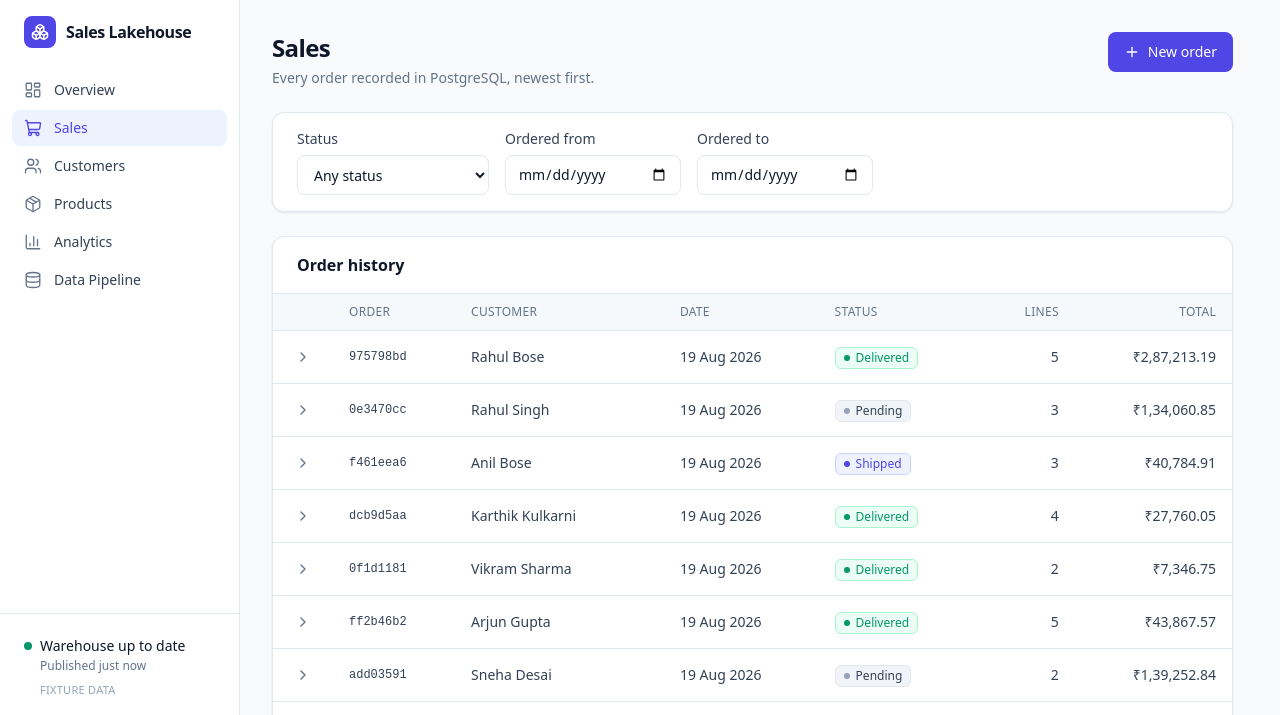
order history › expands a row to reveal its line items
Step 1. Click the button named "show line items" next to "975798bd" → (303, 357), box [289,343,317,371]
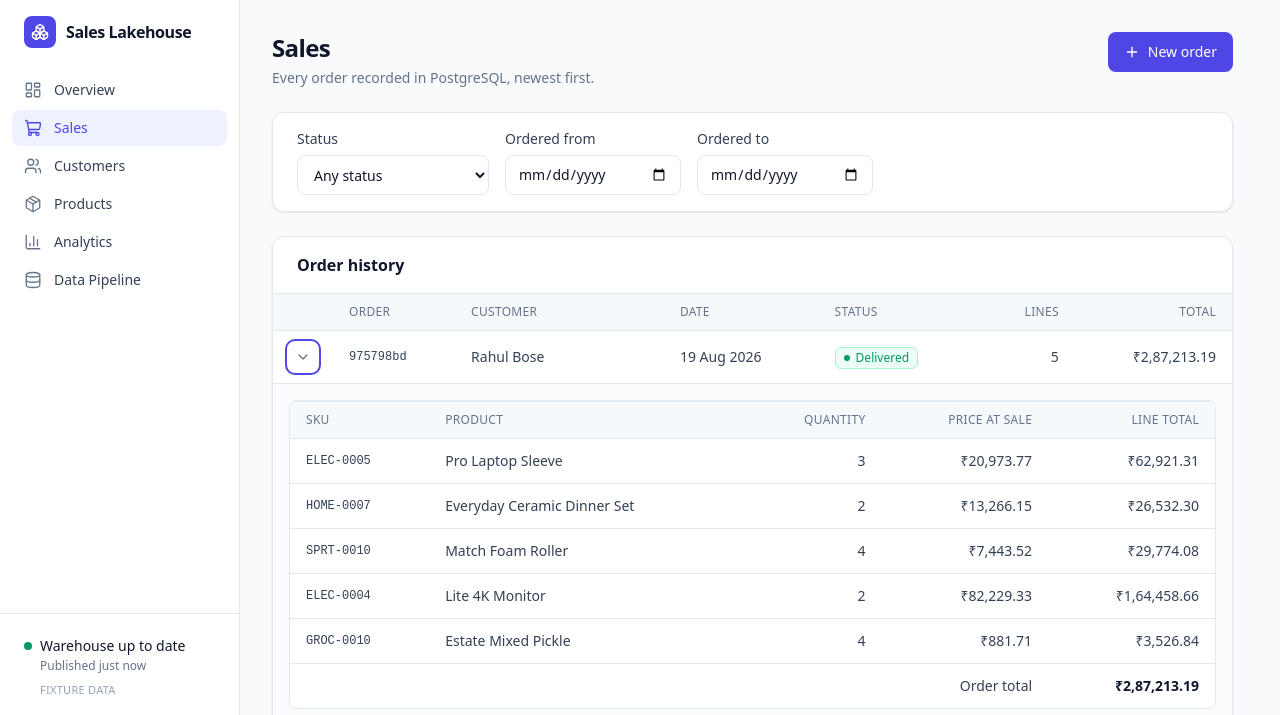
Expected: the button named "show line items" is expanded, [289,343,317,371]
Expected: the column heading "Price at sale" is shown, [882,402,1048,438]
